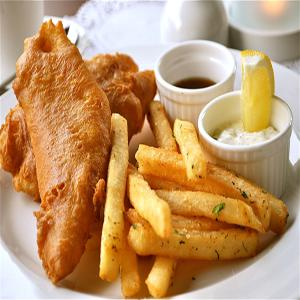fries: (108, 115, 259, 295)
